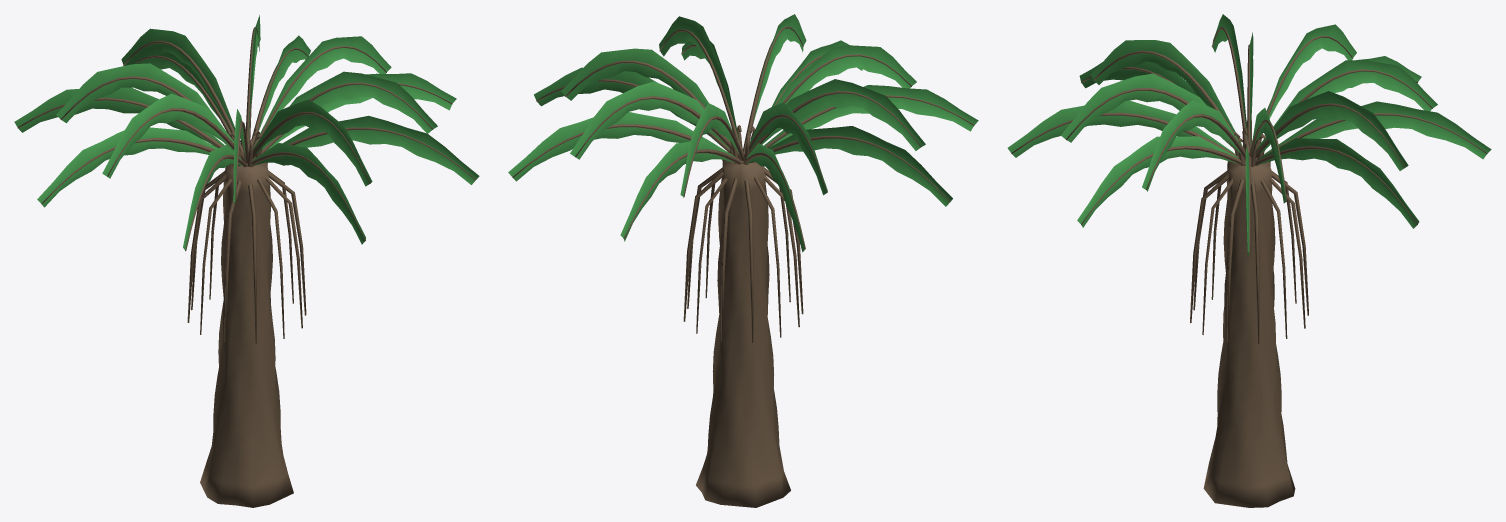
The model's file is understory_tree_fern.glb.
3 views of the same model, side by side, from view 1: azimuth 30°, elevation 25°; view 2: azimuth 150°, elevation 25°; view 3: azimuth 270°, elevation 25° (orthographic).
Visible parts, largest first — view 1: Flora_Tree_Fern; view 2: Flora_Tree_Fern; view 3: Flora_Tree_Fern.
Part boxes in pixels (x1,y1,x2,y2): Flora_Tree_Fern: (14,15,479,507); Flora_Tree_Fern: (508,14,978,507); Flora_Tree_Fern: (1007,14,1491,507).
Bounding box in the file's own units: 5.7 × 5.48 × 5.7.
